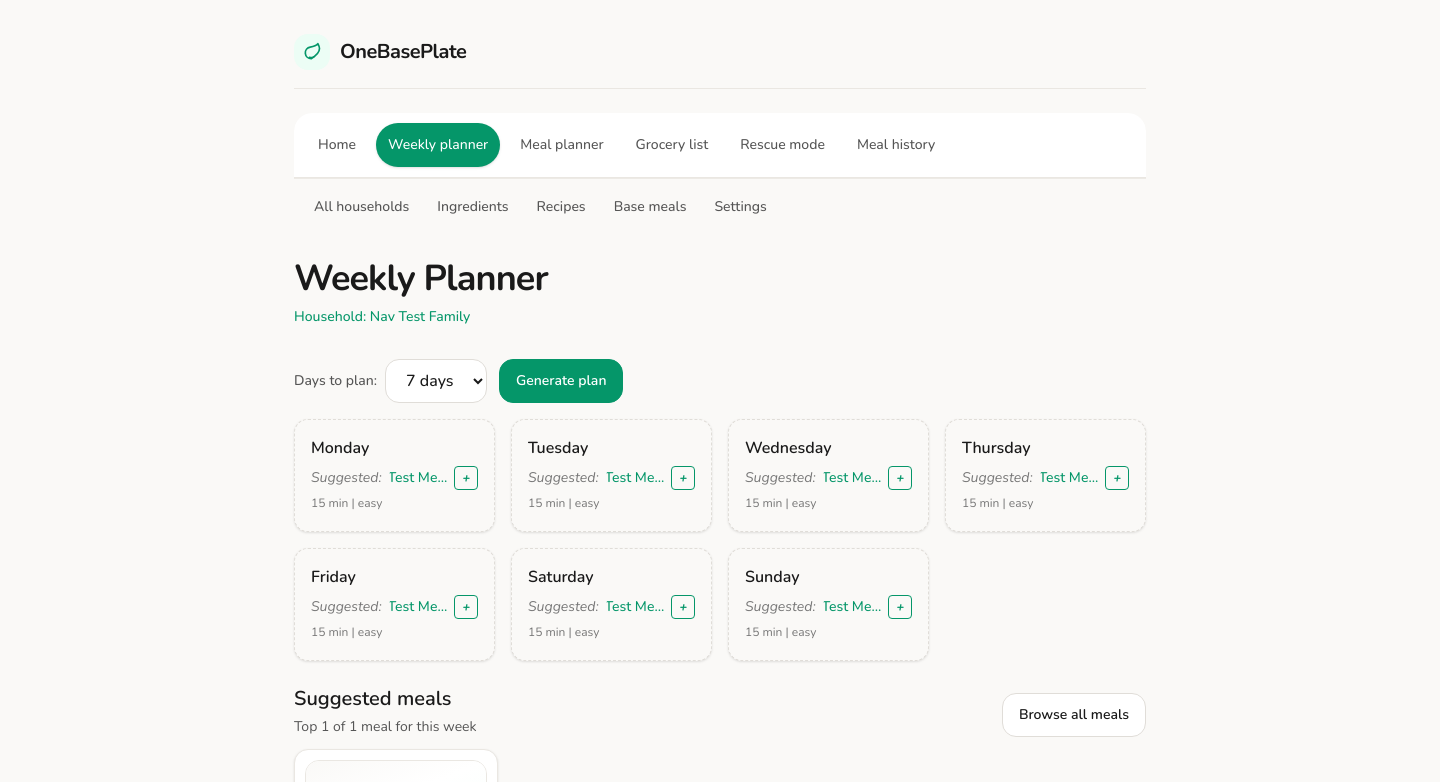
Test: F036: Consistent navigation across all household screens › Navigation from child screens returns to Home › Weekly planner Home link navigates to Home page
Click the link "Home" at (337, 144), box [318,135,356,154]
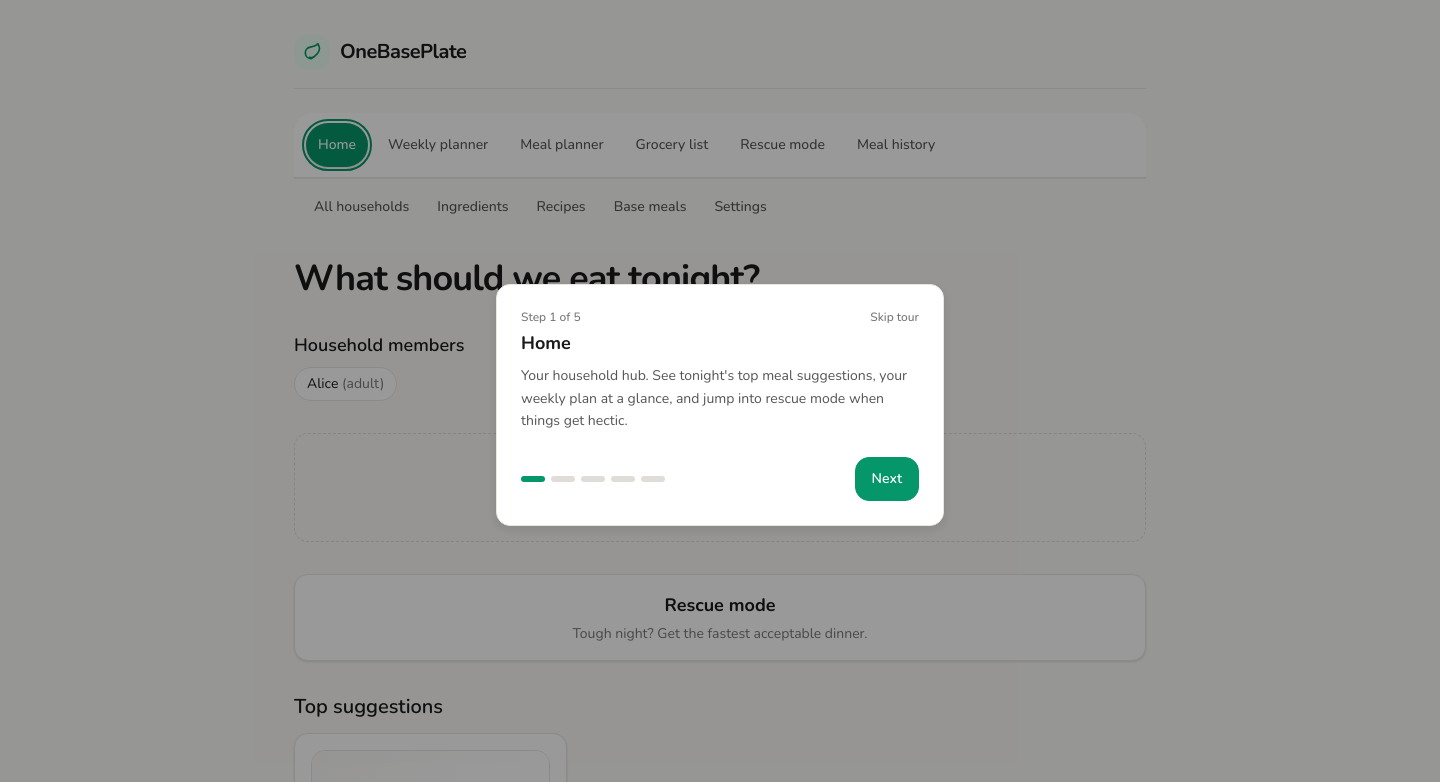
Check: the heading "What should we eat tonight?" is shown, box [294,254,759,303]
